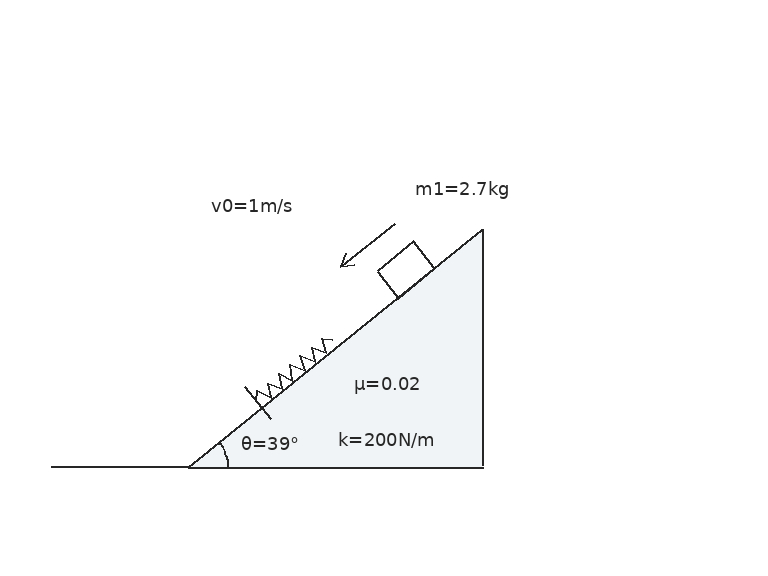block: (374, 240, 436, 299)
ramp: (186, 227, 484, 469)
spring: (254, 336, 334, 403)
